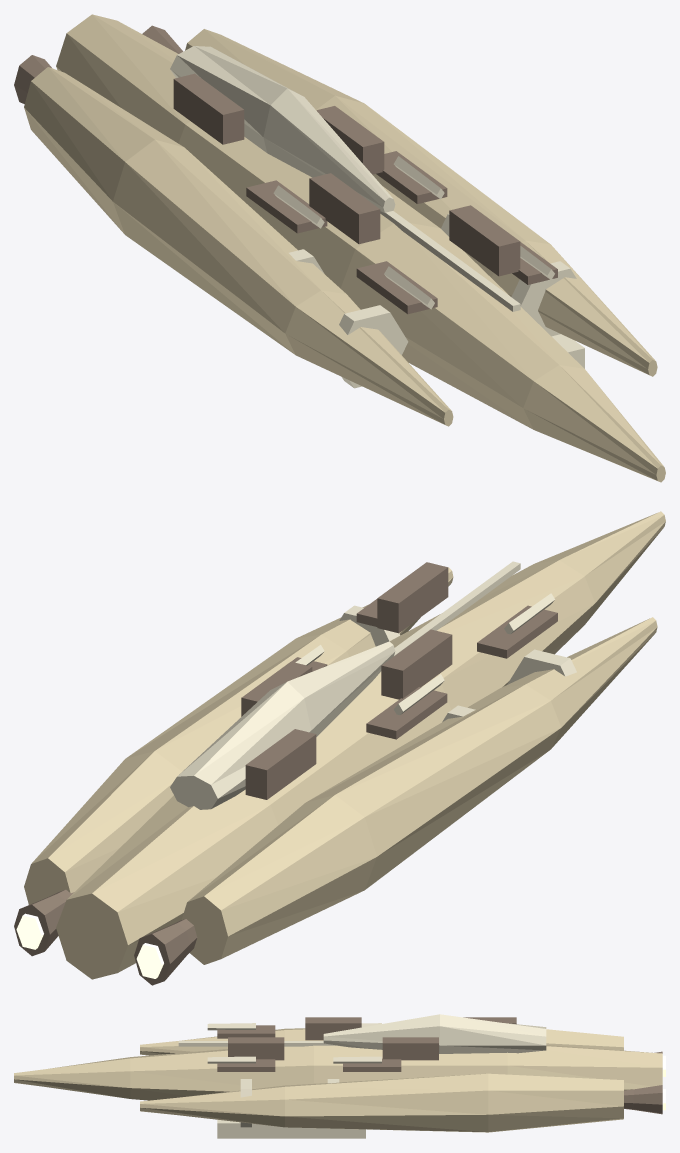
3 views of the same model, one above another, from view 1: azimuth 30°, elevation 25°; view 2: azimuth 150°, elevation 25°; view 3: azimuth 270°, elevation 25° (orthographic). The views are drawn at different scales.
Bounding box in the file's own units: 7.75 × 4.62 × 27.79.
